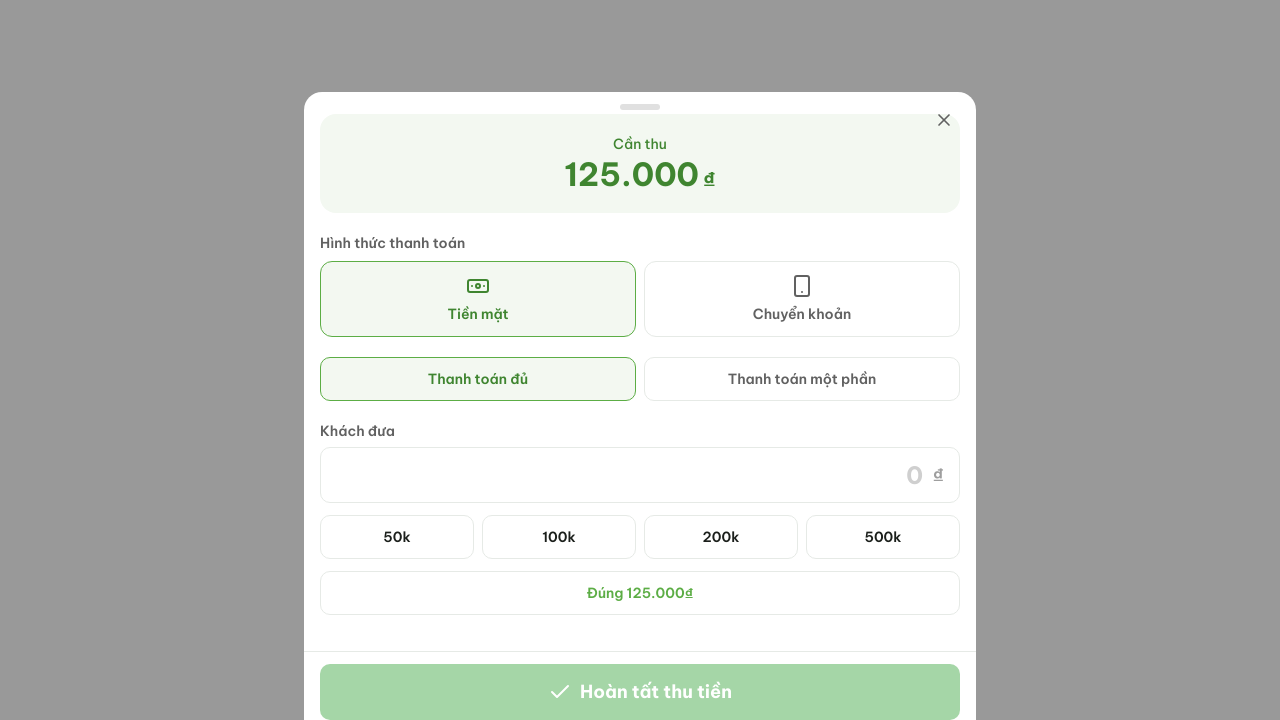
Test: PaymentSheet transfer › ignores a second confirmation while the first payment is pending
Click the button "Thanh toán đủ": [478, 379] box [320,357,636,401]
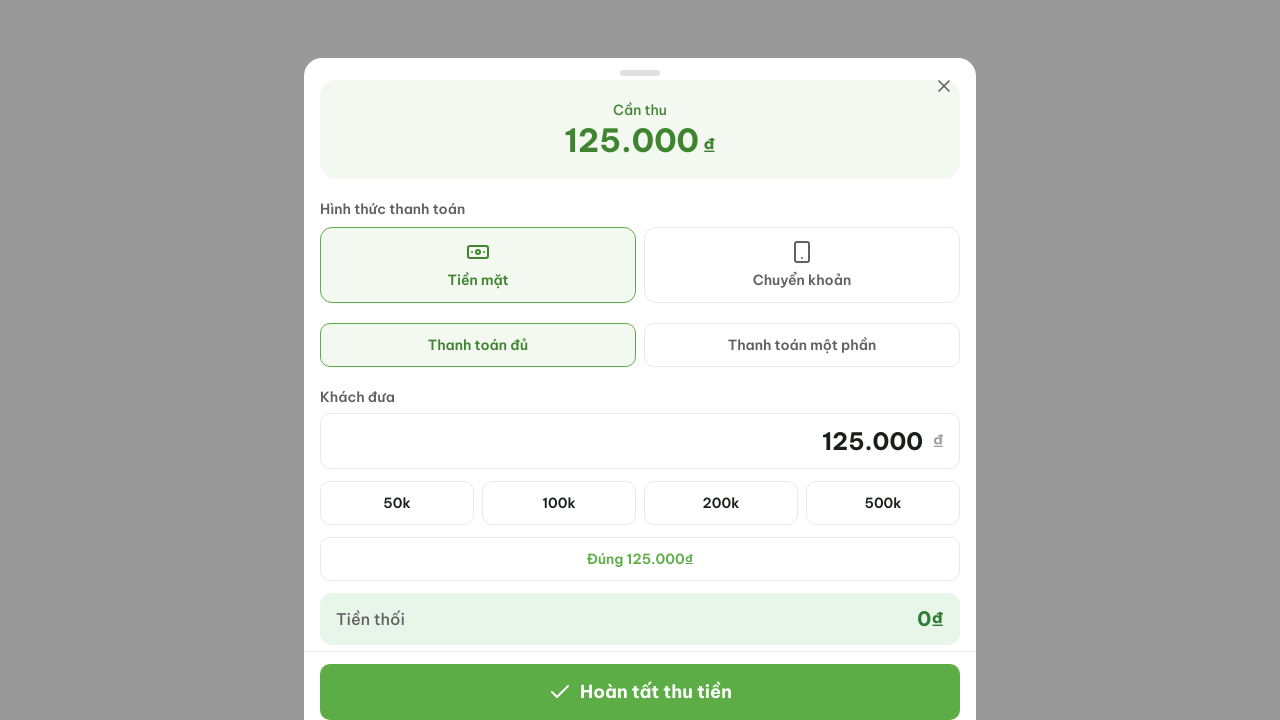
Click the button "Hoàn tất thu tiền": [640, 692] box [320,664,960,719]
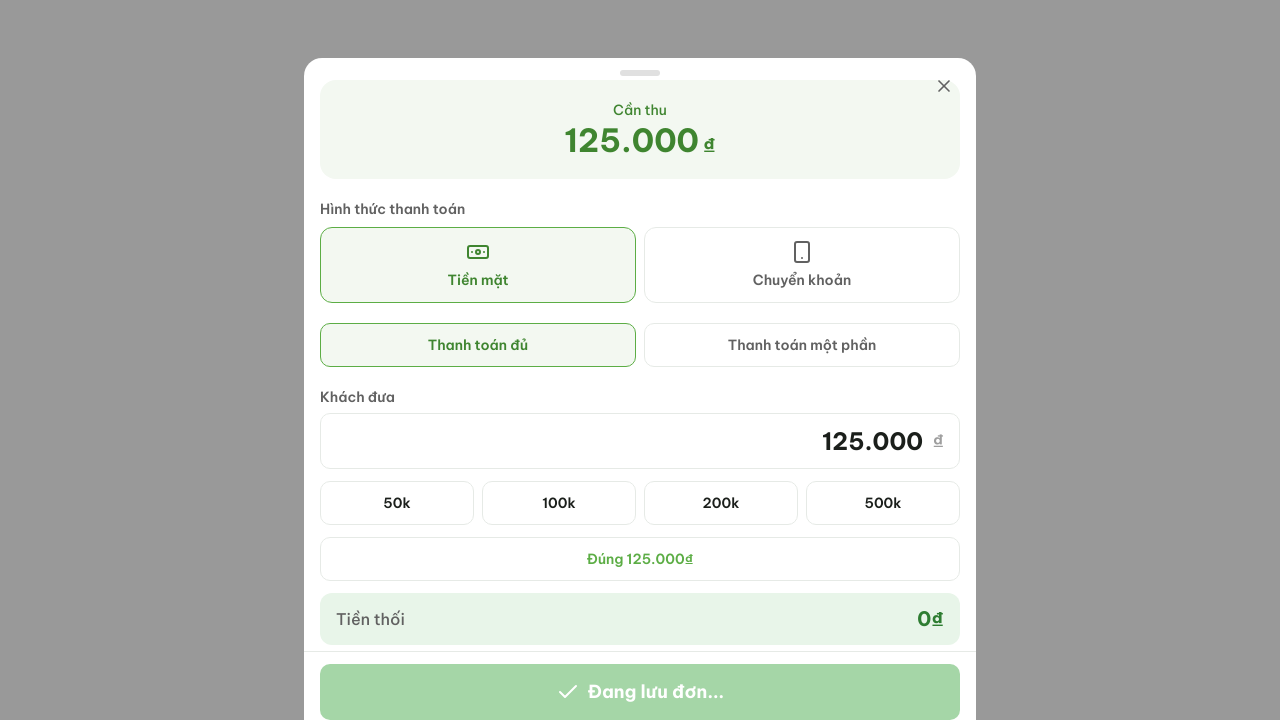
Click the button named "Hoàn tất thu tiền": [640, 692] box [320,664,960,719]
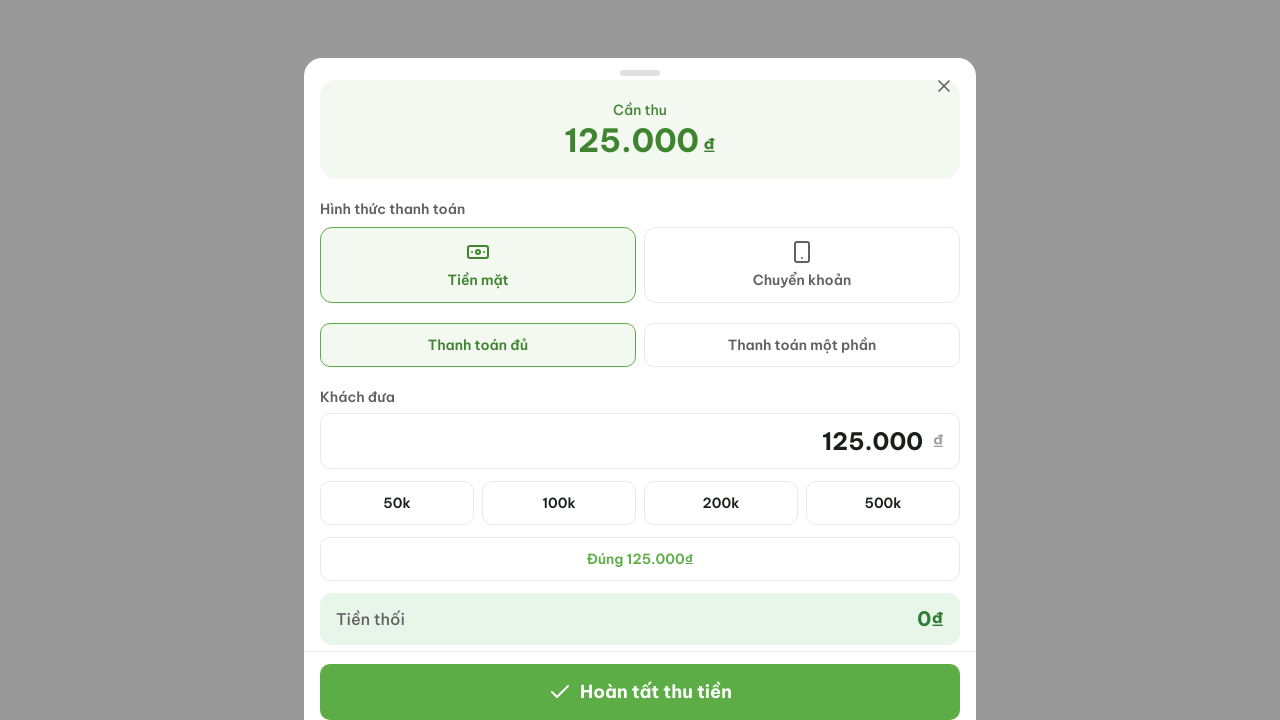
Result: the button "Hoàn tất thu tiền" is enabled at [320,664,960,719]
